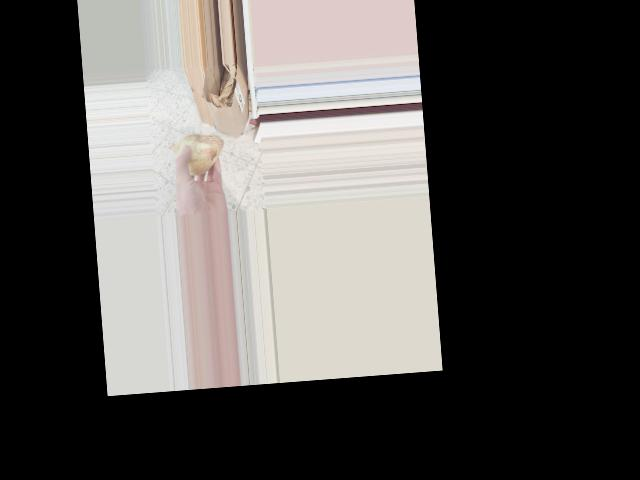onion: (172, 125, 226, 181)
